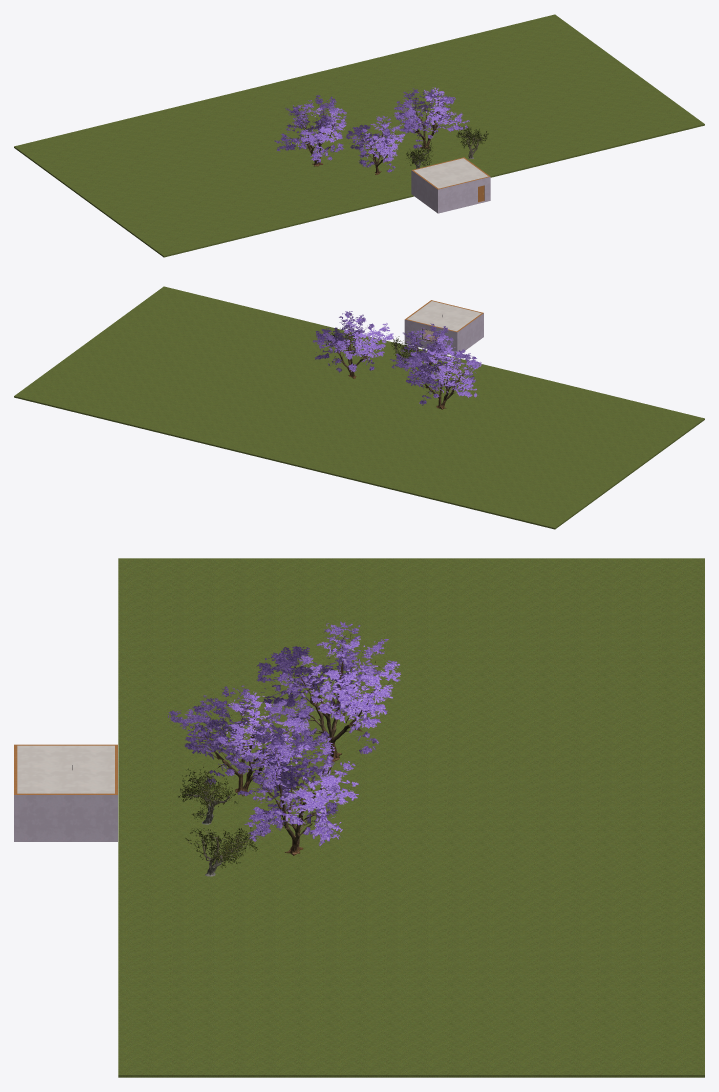
File: gaming.glb
The picture shows the model from 3 angles, top to bottom: view 1: azimuth 30°, elevation 25°; view 2: azimuth 150°, elevation 25°; view 3: azimuth 270°, elevation 25°; orthographic projection. The views are drawn at different scales.
Parts seen in each view (by area): view 1: lm_room, view_tree3_0, view_tree1_0, view_tree0_0; view 2: lm_room, view_tree3_0, view_tree1_0, view_tree0_0; view 3: lm_room, view_tree3_0, view_tree1_0, view_tree0_0, view_tree4_0, view_tree2_0.
Boxes of the visible parts, left/top/right/bottom form: lm_room: left=14, top=14, right=704, bottom=257; view_tree3_0: left=274, top=95, right=346, bottom=163; view_tree1_0: left=394, top=87, right=469, bottom=149; view_tree0_0: left=346, top=116, right=405, bottom=172; lm_room: left=14, top=286, right=704, bottom=529; view_tree3_0: left=396, top=342, right=482, bottom=405; view_tree1_0: left=313, top=311, right=393, bottom=372; view_tree0_0: left=390, top=323, right=453, bottom=377; lm_room: left=14, top=558, right=704, bottom=1077; view_tree3_0: left=256, top=621, right=400, bottom=754; view_tree1_0: left=231, top=725, right=358, bottom=845; view_tree0_0: left=168, top=685, right=309, bottom=786; view_tree4_0: left=185, top=827, right=262, bottom=868; view_tree2_0: left=178, top=767, right=237, bottom=821.
Size of the model in its own units: 80 by 9.17 by 45.21.
56 materials, 38 textured.
